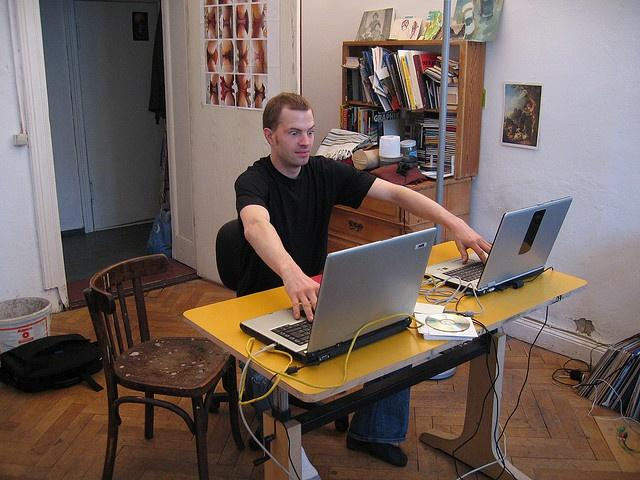Kursi: (82, 253, 245, 479)
Meja: (182, 238, 590, 479)
Rak: (339, 39, 486, 180)
